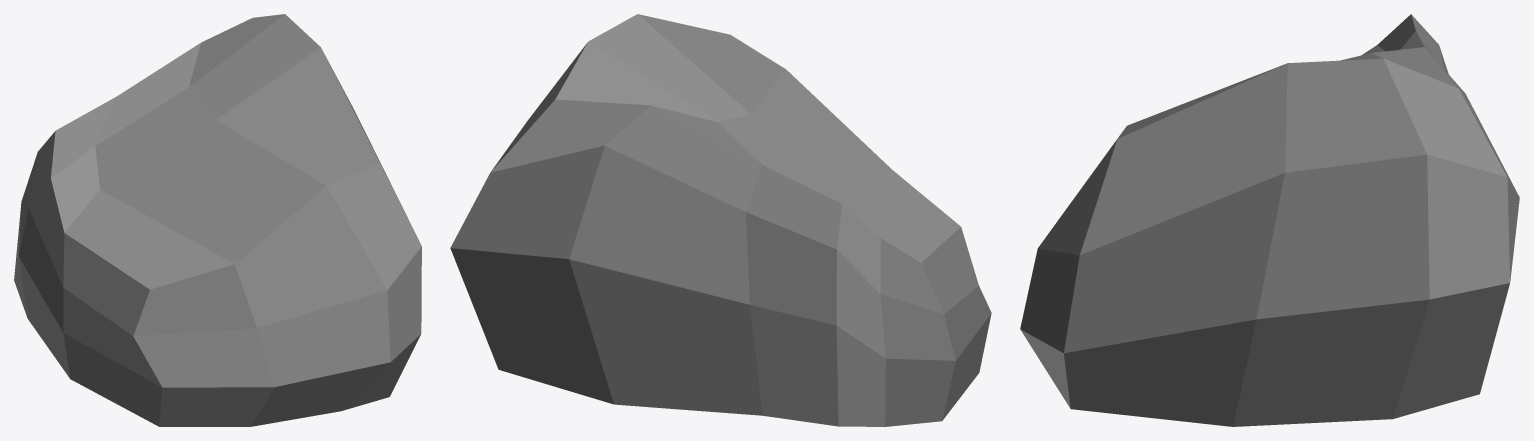
Rendered from roccia1.obj.
3 views of the same model, side by side, from view 1: azimuth 30°, elevation 25°; view 2: azimuth 150°, elevation 25°; view 3: azimuth 270°, elevation 25° (orthographic). The views are drawn at different scales.
Visible parts, largest first — view 1: BigRock5; view 2: BigRock5; view 3: BigRock5.
Part boxes in pixels (bbox=[...]): BigRock5: bbox=[14, 14, 421, 426]; BigRock5: bbox=[450, 14, 991, 426]; BigRock5: bbox=[1020, 14, 1519, 426].
Size of the model in its own units: 15.97 by 13.08 by 16.3.
Materials: 1 (1 with a texture image).
